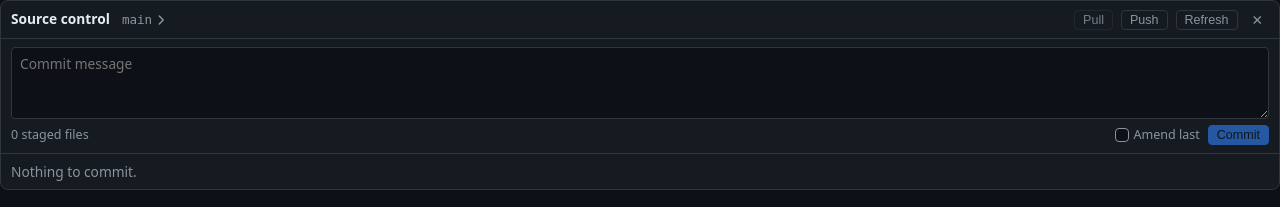
Scenario: choosing a branch › closes once a branch is chosen
Click the button with aria-label "Switch branch" at x=145, y=20, box [118,11,172,28]
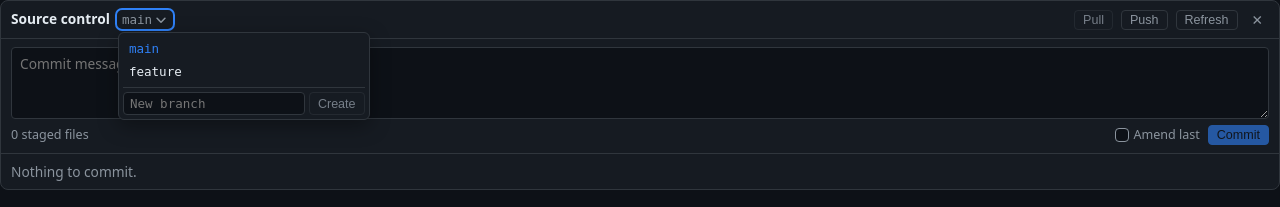
Click the button "feature" at x=244, y=72, box [123,60,365,83]
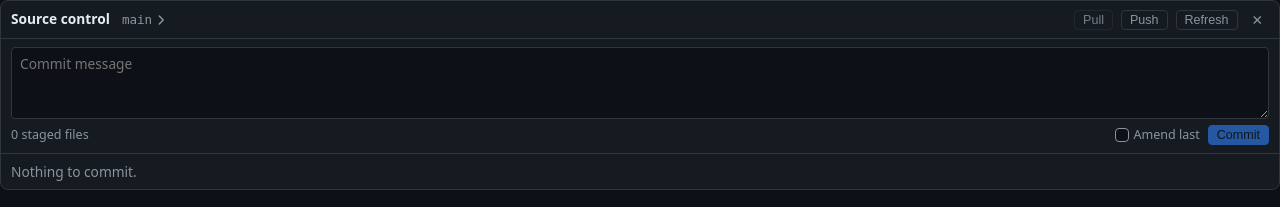
Expected: the button "feature" is gone
